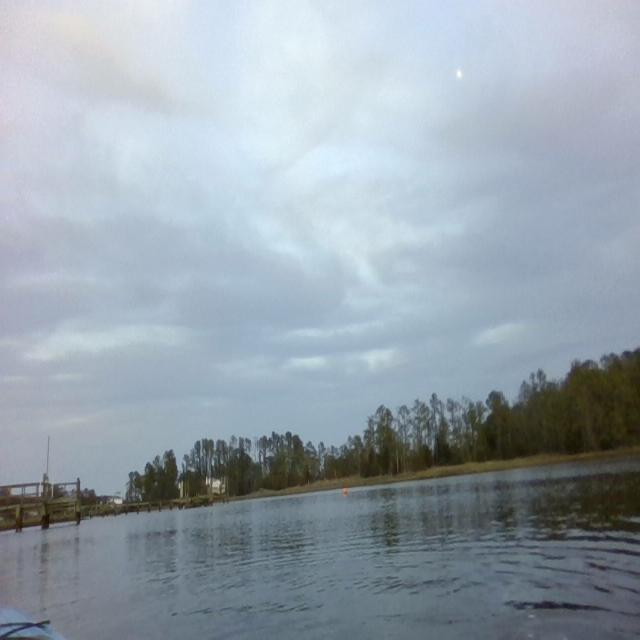Buoy: (342, 486, 349, 498)
